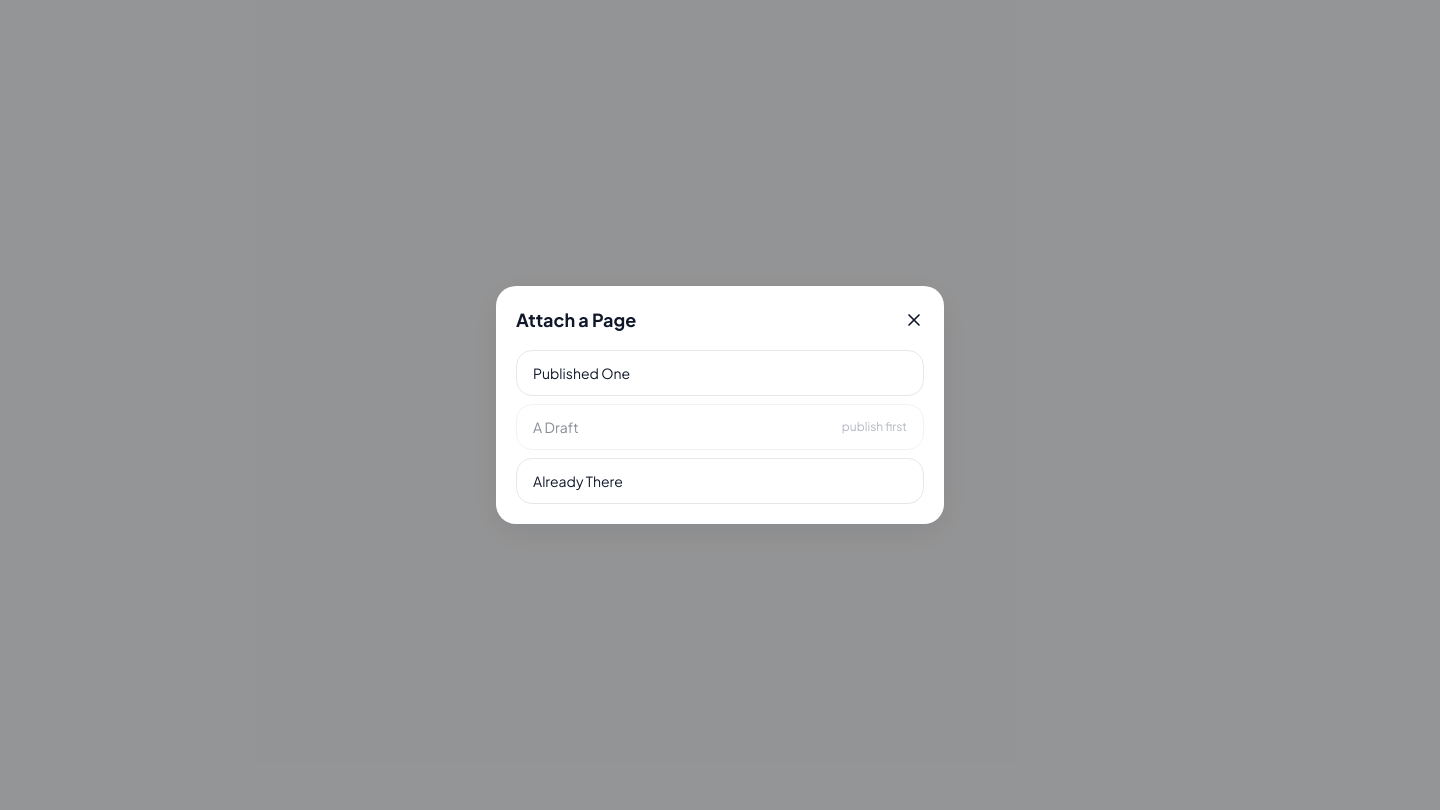
recovers from a network failure: surfaces an error and re-enables the button
This screenshot has width=1440, height=810.
Click the button "Published One".
click(582, 373)  # box x1=516 y1=350 x2=924 y2=396
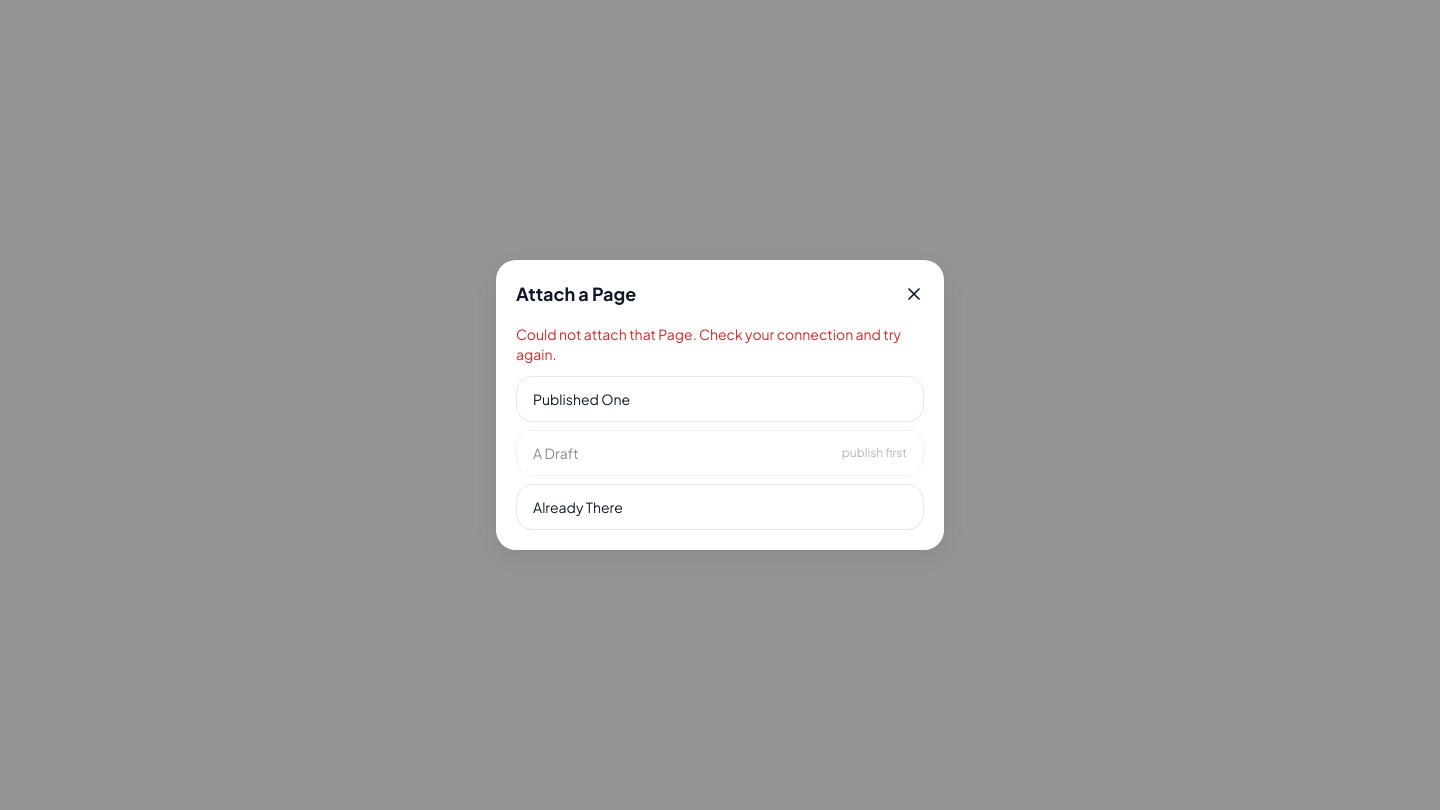
Expected: the button "Published One" is enabled, x1=516 y1=376 x2=924 y2=422
Result: the text "Could not attach that Page" is shown at x1=516 y1=325 x2=901 y2=363
